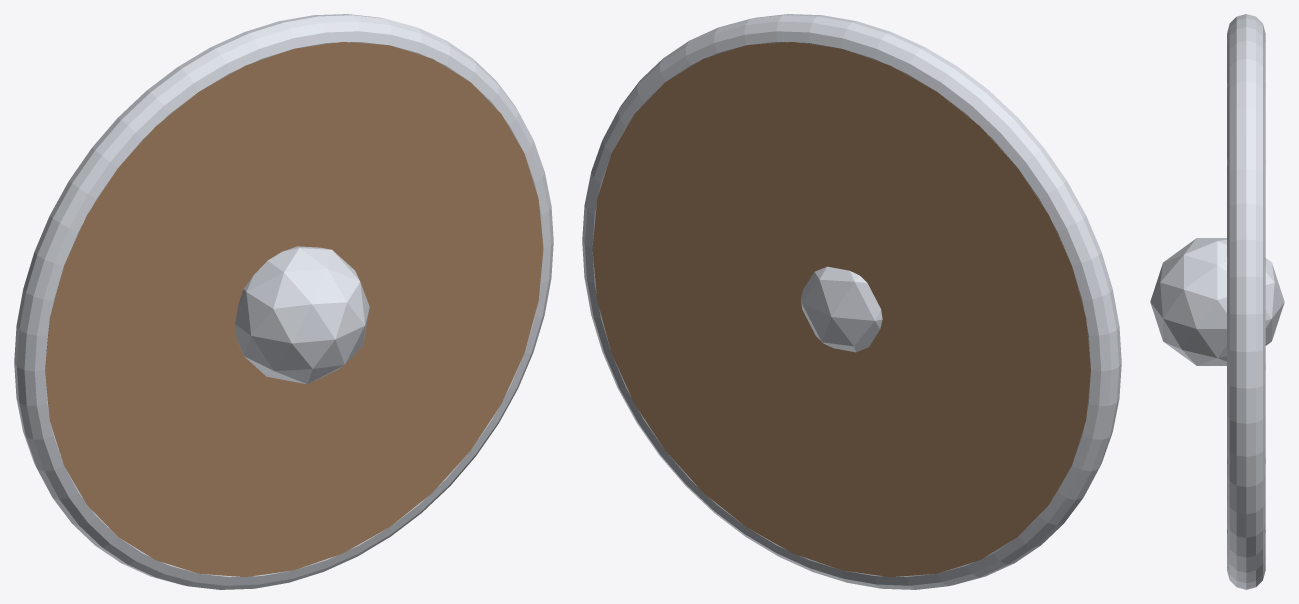
Rendered from shield_river_guardian.glb.
3 views of the same model, side by side, from view 1: azimuth 30°, elevation 25°; view 2: azimuth 150°, elevation 25°; view 3: azimuth 270°, elevation 25° (orthographic). The views are drawn at different scales.
Visible parts, largest first — view 1: Cylinder, Torus, Icosphere; view 2: Cylinder, Torus, Icosphere; view 3: Torus, Icosphere.
Part boxes in pixels (x1=…): Cylinder: x1=45, y1=41, x2=543, y2=577; Torus: x1=14, y1=14, x2=553, y2=589; Icosphere: x1=235, y1=246, x2=369, y2=384; Cylinder: x1=592, y1=41, x2=1090, y2=577; Torus: x1=582, y1=14, x2=1121, y2=589; Icosphere: x1=801, y1=266, x2=882, y2=352; Torus: x1=1227, y1=14, x2=1265, y2=589; Icosphere: x1=1150, y1=238, x2=1284, y2=365.
Size of the model in its own units: 0.6 by 0.6 by 0.14.
